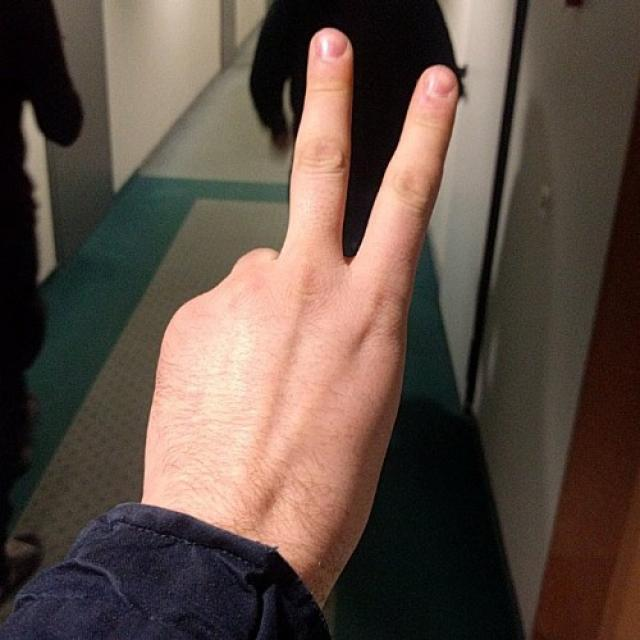scissors: (144, 23, 466, 497)
